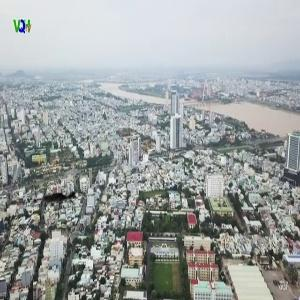drone: (24, 168, 87, 231)
